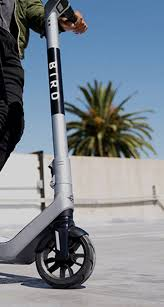kick_neck: (46, 40, 76, 210)
kick_wheel: (37, 226, 95, 287)
